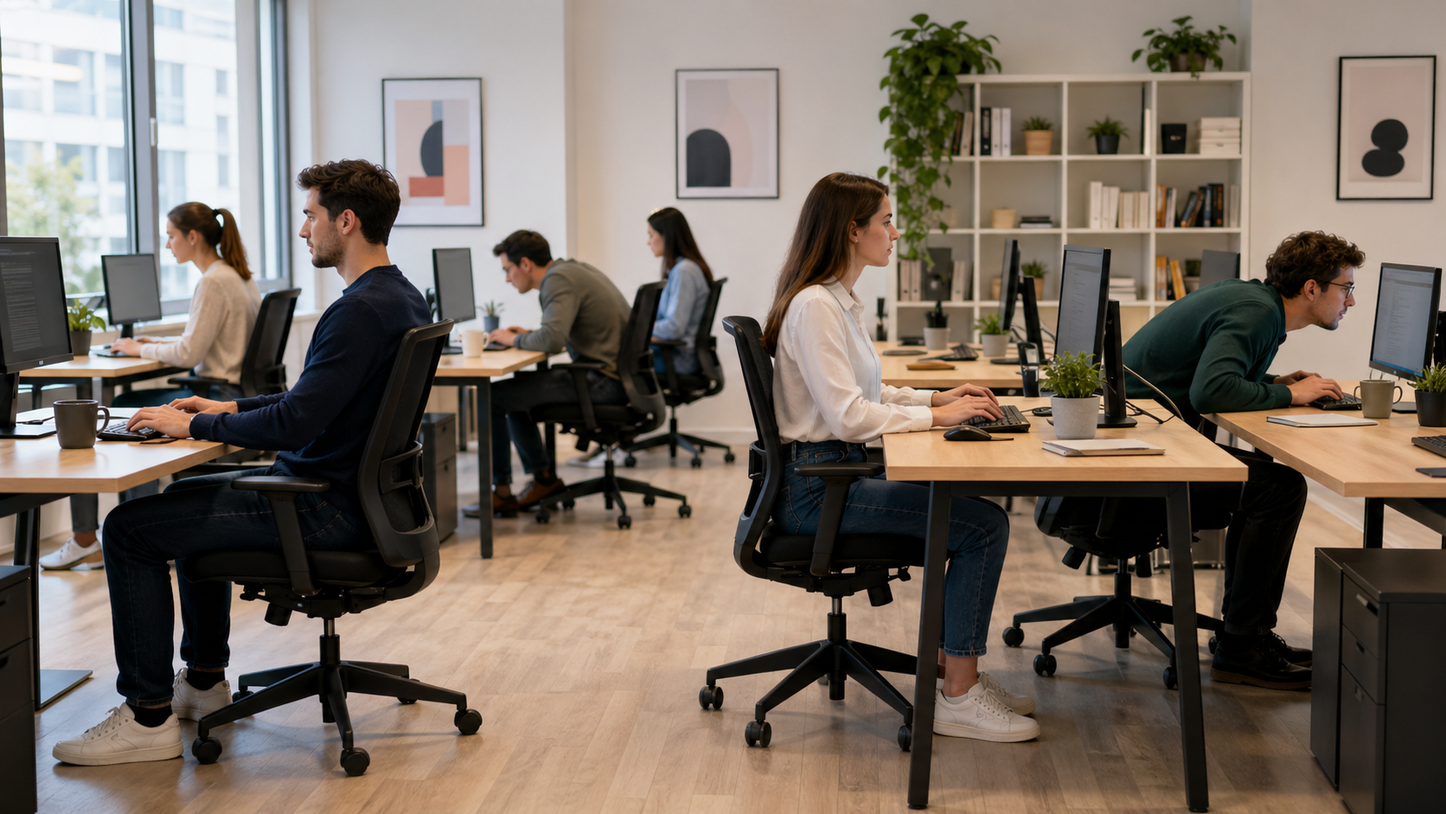sitting_bad: (1088, 197, 1386, 432), (453, 215, 647, 435)
sitting_good: (151, 161, 474, 638), (752, 164, 994, 606), (125, 186, 262, 386), (605, 208, 732, 386)
